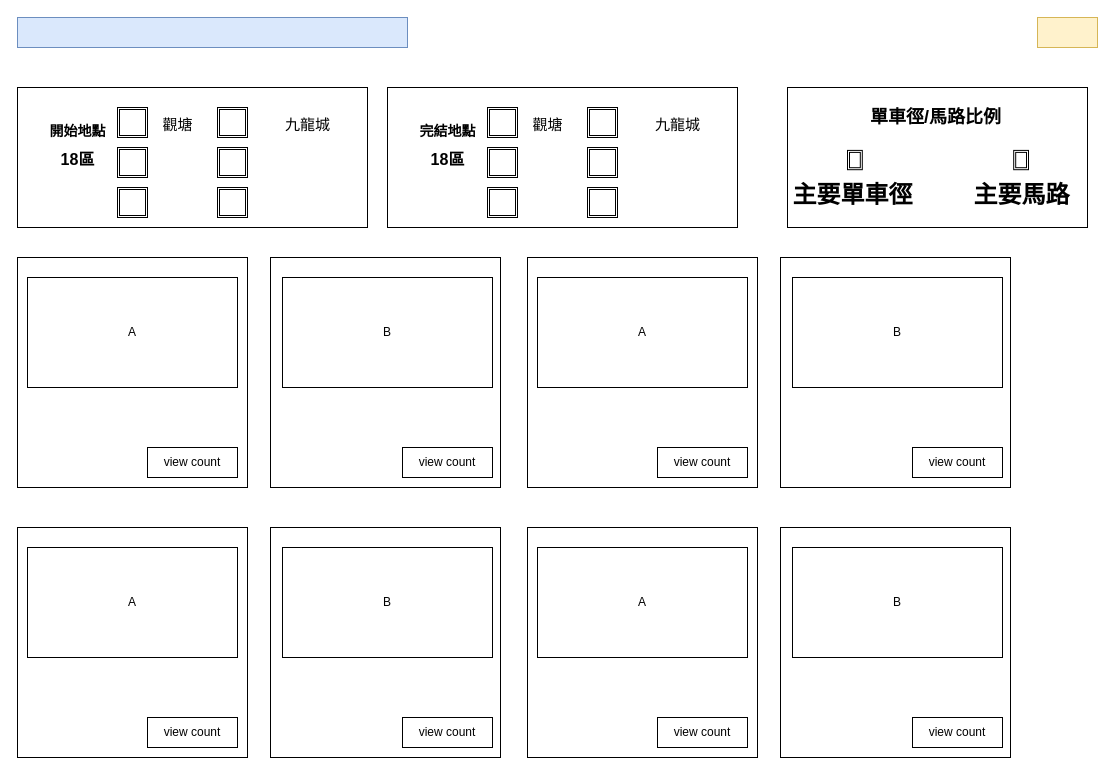
Image size: 1115x775. Some labels were removed from this diagram. The shapes that lost their labels are listed below. From the top down, each one's box as (x1, y1, x2, y2) in pixels, then its label:
(16, 16, 408, 48): menu bar (sub page etc)
(1036, 16, 1098, 48): Hi, ABC
